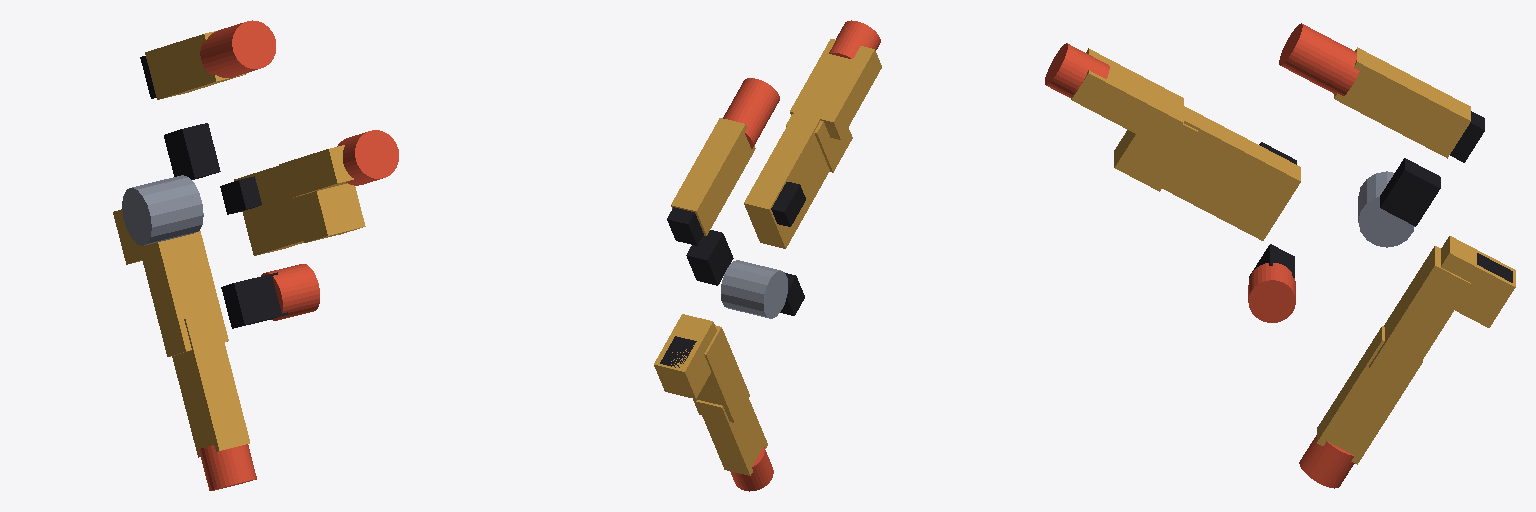
The robot description file, URDF, robot "g0013_c08":
<robot name="g0013_c08">
  <link name="palm">
    <visual name="palm_palm1">
      <origin xyz="0 0 0" rpy="0 0 0" />
      <geometry>
        <mesh filename="palm_palm1.obj" />
      </geometry>
      <material name="palm_palm1_mat">
        <color rgba="0.55 0.57 0.62 1" />
      </material>
    </visual>
    <collision>
      <origin xyz="0 0 0" rpy="0 0 0" />
      <geometry>
        <mesh filename="palm_palm1.obj" />
      </geometry>
    </collision>
    <visual name="palm_mount2">
      <origin xyz="0 0 0" rpy="0 0 0" />
      <geometry>
        <mesh filename="palm_mount2.obj" />
      </geometry>
      <material name="palm_mount2_mat">
        <color rgba="0.55 0.57 0.62 1" />
      </material>
    </visual>
    <collision>
      <origin xyz="0 0 0" rpy="0 0 0" />
      <geometry>
        <mesh filename="palm_mount2.obj" />
      </geometry>
    </collision>
    <visual name="palm_hinge3">
      <origin xyz="0 0.01625 0.0281458256" rpy="-1.57079633 0.523598776 1.57079633" />
      <geometry>
        <box size="0.029 0.034 0.02" />
      </geometry>
      <material name="palm_hinge3_mat">
        <color rgba="0.15 0.15 0.17 1" />
      </material>
    </visual>
    <collision>
      <origin xyz="0 0.01625 0.0281458256" rpy="-1.57079633 0.523598776 1.57079633" />
      <geometry>
        <box size="0.029 0.034 0.02" />
      </geometry>
    </collision>
    <visual name="palm_motor4">
      <origin xyz="-0.007 -0.08 -0.04" rpy="1.06057524e-16 -1.04719755 1.57079633" />
      <geometry>
        <box size="0.029 0.034 0.02" />
      </geometry>
      <material name="palm_motor4_mat">
        <color rgba="0.15 0.15 0.17 1" />
      </material>
    </visual>
    <collision>
      <origin xyz="-0.007 -0.08 -0.04" rpy="1.06057524e-16 -1.04719755 1.57079633" />
      <geometry>
        <box size="0.029 0.034 0.02" />
      </geometry>
    </collision>
    <visual name="palm_motor5">
      <origin xyz="-0.007 -0.08 0.04" rpy="3.14159265 -0.523598776 -1.57079633" />
      <geometry>
        <box size="0.029 0.034 0.02" />
      </geometry>
      <material name="palm_motor5_mat">
        <color rgba="0.15 0.15 0.17 1" />
      </material>
    </visual>
    <collision>
      <origin xyz="-0.007 -0.08 0.04" rpy="3.14159265 -0.523598776 -1.57079633" />
      <geometry>
        <box size="0.029 0.034 0.02" />
      </geometry>
    </collision>
    <visual name="palm_motor6">
      <origin xyz="-0.0045 0.0666996732 -0.0467548095" rpy="1.57079633 -0.523598776 -1.57079633" />
      <geometry>
        <box size="0.029 0.034 0.02" />
      </geometry>
      <material name="palm_motor6_mat">
        <color rgba="0.15 0.15 0.17 1" />
      </material>
    </visual>
    <collision>
      <origin xyz="-0.0045 0.0666996732 -0.0467548095" rpy="1.57079633 -0.523598776 -1.57079633" />
      <geometry>
        <box size="0.029 0.034 0.02" />
      </geometry>
    </collision>
    <inertial>
      <origin xyz="3.06881277e-19 -0.0160101149 -0.0098875178" rpy="-1.57079633 -0.360314706 -1.57079633" />
      <mass value="0.80503861" />
      <inertia ixx="0.000786808095" ixy="0" ixz="0" iyy="0.00226216112" iyz="0" izz="0.0029716855" />
    </inertial>
  </link>
  <link name="palm0">
    <visual name="palm0_palm1">
      <origin xyz="0 0 0" rpy="0 0 0" />
      <geometry>
        <mesh filename="palm0_palm1.obj" />
      </geometry>
      <material name="palm0_palm1_mat">
        <color rgba="0.55 0.57 0.62 1" />
      </material>
    </visual>
    <collision>
      <origin xyz="0 0 0" rpy="0 0 0" />
      <geometry>
        <mesh filename="palm0_palm1.obj" />
      </geometry>
    </collision>
    <visual name="palm0_motor2">
      <origin xyz="0 0.0264951905 0.0416089838" rpy="-1.57079633 -1.04719755 1.57079633" />
      <geometry>
        <box size="0.029 0.034 0.02" />
      </geometry>
      <material name="palm0_motor2_mat">
        <color rgba="0.15 0.15 0.17 1" />
      </material>
    </visual>
    <collision>
      <origin xyz="0 0.0264951905 0.0416089838" rpy="-1.57079633 -1.04719755 1.57079633" />
      <geometry>
        <box size="0.029 0.034 0.02" />
      </geometry>
    </collision>
    <inertial>
      <origin xyz="0 0.0150857275 0.0248726109" rpy="-1.57079633 -0.505474967 -1.57079633" />
      <mass value="0.23405729" />
      <inertia ixx="7.66551965e-05" ixy="0" ixz="0" iyy="0.000225585664" iyz="0" izz="0.00027977136" />
    </inertial>
  </link>
  <link name="f0_link0">
    <visual name="f0_link0_link1">
      <origin xyz="0.019 0 -6.9388939e-18" rpy="-1.57079633 -0 -1.57079633" />
      <geometry>
        <cylinder radius="0.0165" length="0.029" />
      </geometry>
      <material name="f0_link0_link1_mat">
        <color rgba="0.85 0.35 0.25 1" />
      </material>
    </visual>
    <collision>
      <origin xyz="0.019 0 -6.9388939e-18" rpy="-1.57079633 -0 -1.57079633" />
      <geometry>
        <cylinder radius="0.0165" length="0.029" />
      </geometry>
    </collision>
    <inertial>
      <origin xyz="0.019 0 0" rpy="0 0 0" />
      <mass value="0.0763354" />
      <inertia ixx="9.49466441e-06" ixy="0" ixz="0" iyy="2.24143997e-05" iyz="0" izz="2.24143997e-05" />
    </inertial>
  </link>
  <link name="f1_link0">
    <visual name="f1_link0_link1">
      <origin xyz="0.0415 0 -0.0145" rpy="0 7.03853194e-17 0" />
      <geometry>
        <box size="0.116 0.024 0.053" />
      </geometry>
      <material name="f1_link0_link1_mat">
        <color rgba="0.80 0.62 0.30 1" />
      </material>
    </visual>
    <collision>
      <origin xyz="0.0415 0 -0.0145" rpy="0 7.03853194e-17 0" />
      <geometry>
        <box size="0.116 0.024 0.053" />
      </geometry>
    </collision>
    <inertial>
      <origin xyz="0.0415 0 -0.0145" rpy="0 0 0" />
      <mass value="0.258216" />
      <inertia ixx="7.283843e-05" ixy="0" ixz="0" iyy="0.00034999027" iyz="0" izz="0.000301940576" />
    </inertial>
  </link>
  <link name="f1_link1">
    <visual name="f1_link1_link1">
      <origin xyz="-0.00625 0 -0.0165" rpy="0 7.03853194e-17 0" />
      <geometry>
        <box size="0.0365 0.029 0.053" />
      </geometry>
      <material name="f1_link1_link1_mat">
        <color rgba="0.80 0.62 0.30 1" />
      </material>
    </visual>
    <collision>
      <origin xyz="-0.00625 0 -0.0165" rpy="0 7.03853194e-17 0" />
      <geometry>
        <box size="0.0365 0.029 0.053" />
      </geometry>
    </collision>
    <inertial>
      <origin xyz="-0.00625 0 -0.0165" rpy="0 0 0" />
      <mass value="0.098175875" />
      <inertia ixx="2.98618286e-05" ixy="0" ixz="0" iyy="3.38809035e-05" iyz="0" izz="1.778006e-05" />
    </inertial>
  </link>
  <link name="f1_link2">
    <visual name="f1_link2_link1">
      <origin xyz="0.02625 -0.004 -1.73472348e-18" rpy="0 7.03853194e-17 0" />
      <geometry>
        <box size="0.0765 0.041 0.024" />
      </geometry>
      <material name="f1_link2_link1_mat">
        <color rgba="0.80 0.62 0.30 1" />
      </material>
    </visual>
    <collision>
      <origin xyz="0.02625 -0.004 -1.73472348e-18" rpy="0 7.03853194e-17 0" />
      <geometry>
        <box size="0.0765 0.041 0.024" />
      </geometry>
    </collision>
    <inertial>
      <origin xyz="0.02625 -0.004 0" rpy="0 0 0" />
      <mass value="0.131733" />
      <inertia ixx="2.47767818e-05" ixy="0" ixz="0" iyy="7.05677214e-05" iyz="0" izz="8.26981352e-05" />
    </inertial>
  </link>
  <link name="f1_link3">
    <visual name="f1_link3_link1">
      <origin xyz="0.01675 0 -9.54097912e-18" rpy="-1.57079633 -0 -1.57079633" />
      <geometry>
        <cylinder radius="0.0165" length="0.0335" />
      </geometry>
      <material name="f1_link3_link1_mat">
        <color rgba="0.85 0.35 0.25 1" />
      </material>
    </visual>
    <collision>
      <origin xyz="0.01675 0 -9.54097912e-18" rpy="-1.57079633 -0 -1.57079633" />
      <geometry>
        <cylinder radius="0.0165" length="0.0335" />
      </geometry>
    </collision>
    <inertial>
      <origin xyz="0.01675 0 0" rpy="0 0 0" />
      <mass value="0.0830708765" />
      <inertia ixx="1.04115311e-05" ixy="0" ixz="0" iyy="2.77522648e-05" iyz="0" izz="2.77522648e-05" />
    </inertial>
  </link>
  <link name="f2_link0">
    <visual name="f2_link0_link1">
      <origin xyz="-0.00625 0 -0.0165" rpy="0 4.06369831e-17 0" />
      <geometry>
        <box size="0.0365 0.029 0.053" />
      </geometry>
      <material name="f2_link0_link1_mat">
        <color rgba="0.80 0.62 0.30 1" />
      </material>
    </visual>
    <collision>
      <origin xyz="-0.00625 0 -0.0165" rpy="0 4.06369831e-17 0" />
      <geometry>
        <box size="0.0365 0.029 0.053" />
      </geometry>
    </collision>
    <inertial>
      <origin xyz="-0.00625 0 -0.0165" rpy="0 0 0" />
      <mass value="0.098175875" />
      <inertia ixx="2.98618286e-05" ixy="0" ixz="0" iyy="3.38809035e-05" iyz="0" izz="1.778006e-05" />
    </inertial>
  </link>
  <link name="f2_link1">
    <visual name="f2_link1_link1">
      <origin xyz="0.03375 0 6.9388939e-18" rpy="0 4.06369831e-17 0" />
      <geometry>
        <box size="0.0915 0.033 0.029" />
      </geometry>
      <material name="f2_link1_link1_mat">
        <color rgba="0.80 0.62 0.30 1" />
      </material>
    </visual>
    <collision>
      <origin xyz="0.03375 0 6.9388939e-18" rpy="0 4.06369831e-17 0" />
      <geometry>
        <box size="0.0915 0.033 0.029" />
      </geometry>
    </collision>
    <inertial>
      <origin xyz="0.03375 0 0" rpy="0 0 0" />
      <mass value="0.153239625" />
      <inertia ixx="2.46460397e-05" ixy="0" ixz="0" iyy="0.000117652915" iyz="0" izz="0.000120819867" />
    </inertial>
  </link>
  <link name="f2_link2">
    <visual name="f2_link2_link1">
      <origin xyz="0.03375 0 -1.38777878e-17" rpy="0 4.06369831e-17 0" />
      <geometry>
        <box size="0.0915 0.024 0.033" />
      </geometry>
      <material name="f2_link2_link1_mat">
        <color rgba="0.80 0.62 0.30 1" />
      </material>
    </visual>
    <collision>
      <origin xyz="0.03375 0 -1.38777878e-17" rpy="0 4.06369831e-17 0" />
      <geometry>
        <box size="0.0915 0.024 0.033" />
      </geometry>
    </collision>
    <inertial>
      <origin xyz="0.03375 0 0" rpy="0 0 0" />
      <mass value="0.126819" />
      <inertia ixx="1.75961363e-05" ixy="0" ixz="0" iyy="9.99888553e-05" iyz="0" izz="9.45673431e-05" />
    </inertial>
  </link>
  <link name="f2_link3">
    <visual name="f2_link3_link1">
      <origin xyz="0.019 0 6.9388939e-18" rpy="-1.57079633 -0 -1.57079633" />
      <geometry>
        <cylinder radius="0.0165" length="0.029" />
      </geometry>
      <material name="f2_link3_link1_mat">
        <color rgba="0.85 0.35 0.25 1" />
      </material>
    </visual>
    <collision>
      <origin xyz="0.019 0 6.9388939e-18" rpy="-1.57079633 -0 -1.57079633" />
      <geometry>
        <cylinder radius="0.0165" length="0.029" />
      </geometry>
    </collision>
    <inertial>
      <origin xyz="0.019 0 0" rpy="0 0 0" />
      <mass value="0.0763354" />
      <inertia ixx="9.49466441e-06" ixy="0" ixz="0" iyy="2.24143997e-05" iyz="0" izz="2.24143997e-05" />
    </inertial>
  </link>
  <link name="f3_link0">
    <visual name="f3_link0_link1">
      <origin xyz="0.03375 0 0" rpy="0 7.03853194e-17 0" />
      <geometry>
        <box size="0.0915 0.024 0.033" />
      </geometry>
      <material name="f3_link0_link1_mat">
        <color rgba="0.80 0.62 0.30 1" />
      </material>
    </visual>
    <collision>
      <origin xyz="0.03375 0 0" rpy="0 7.03853194e-17 0" />
      <geometry>
        <box size="0.0915 0.024 0.033" />
      </geometry>
    </collision>
    <inertial>
      <origin xyz="0.03375 0 0" rpy="0 0 0" />
      <mass value="0.126819" />
      <inertia ixx="1.75961363e-05" ixy="0" ixz="0" iyy="9.99888553e-05" iyz="0" izz="9.45673431e-05" />
    </inertial>
  </link>
  <link name="f3_link1">
    <visual name="f3_link1_link1">
      <origin xyz="0.029 0 -6.9388939e-18" rpy="-1.57079633 -0 -1.57079633" />
      <geometry>
        <cylinder radius="0.0165" length="0.049" />
      </geometry>
      <material name="f3_link1_link1_mat">
        <color rgba="0.85 0.35 0.25 1" />
      </material>
    </visual>
    <collision>
      <origin xyz="0.029 0 -6.9388939e-18" rpy="-1.57079633 -0 -1.57079633" />
      <geometry>
        <cylinder radius="0.0165" length="0.049" />
      </geometry>
    </collision>
    <inertial>
      <origin xyz="0.029 0 0" rpy="0 0 0" />
      <mass value="0.106270851" />
      <inertia ixx="1.35696277e-05" ixy="0" ixz="0" iyy="5.30015704e-05" iyz="0" izz="5.30015704e-05" />
    </inertial>
  </link>
  <joint name="palm0_joint" type="revolute">
    <parent link="palm" />
    <child link="palm0" />
    <origin xyz="0 0.02 0.0346410162" rpy="0 0 0" />
    <axis xyz="0 0.866025404 -0.5" />
    <limit effort="0.5" lower="-0.523598776" upper="0.523598776" velocity="5" />
    <dynamics damping="0.0775033" friction="0" />
  </joint>
  <joint name="f0_j0" type="revolute">
    <parent link="palm" />
    <child link="f0_link0" />
    <origin xyz="0.0005 -0.08 -0.04" rpy="1.04719755 5.30287619e-17 -3.061617e-17" />
    <axis xyz="0 1 6.123234e-17" />
    <limit effort="0.5" lower="-0.523598776" upper="0.523598776" velocity="5" />
    <dynamics damping="0.0775033" friction="0" />
  </joint>
  <joint name="f1_j0" type="revolute">
    <parent link="palm" />
    <child link="f1_link0" />
    <origin xyz="0.0005 -0.08 0.04" rpy="-0 -0.523598776 -1.57079633" />
    <axis xyz="1 0 6.123234e-17" />
    <limit effort="0.5" lower="-1.57079633" upper="1.57079633" velocity="5" />
    <dynamics damping="0.0775033" friction="0" />
  </joint>
  <joint name="f1_j1" type="revolute">
    <parent link="f1_link0" />
    <child link="f1_link1" />
    <origin xyz="0.09 0 0" rpy="0 0 0" />
    <axis xyz="0 0 1" />
    <limit effort="0.5" lower="-0.523598776" upper="1.57079633" velocity="5" />
    <dynamics damping="0.0775033" friction="0" />
  </joint>
  <joint name="f1_j2" type="revolute">
    <parent link="f1_link1" />
    <child link="f1_link2" />
    <origin xyz="0 0 0" rpy="0 0 0" />
    <axis xyz="-0 -1 -6.123234e-17" />
    <limit effort="0.5" lower="-0.523598776" upper="0.523598776" velocity="5" />
    <dynamics damping="0.0775033" friction="0" />
  </joint>
  <joint name="f1_j3" type="revolute">
    <parent link="f1_link2" />
    <child link="f1_link3" />
    <origin xyz="0.05 0 0" rpy="0 0 0" />
    <axis xyz="1 0 6.123234e-17" />
    <limit effort="0.5" lower="-1.57079633" upper="1.57079633" velocity="5" />
    <dynamics damping="0.0775033" friction="0" />
  </joint>
  <joint name="f2_j0" type="revolute">
    <parent link="palm" />
    <child link="f2_link0" />
    <origin xyz="-0.0045 0.04 -0.04" rpy="0 1.04719755 -1.57079633" />
    <axis xyz="0 0 1" />
    <limit effort="0.5" lower="-0.523598776" upper="1.57079633" velocity="5" />
    <dynamics damping="0.0775033" friction="0" />
  </joint>
  <joint name="f2_j1" type="revolute">
    <parent link="f2_link0" />
    <child link="f2_link1" />
    <origin xyz="0 0 0" rpy="0 0 0" />
    <axis xyz="0 1 6.123234e-17" />
    <limit effort="0.5" lower="-0.523598776" upper="0.523598776" velocity="5" />
    <dynamics damping="0.0775033" friction="0" />
  </joint>
  <joint name="f2_j2" type="revolute">
    <parent link="f2_link1" />
    <child link="f2_link2" />
    <origin xyz="0.07 0 0" rpy="0 0 0" />
    <axis xyz="0 0 1" />
    <limit effort="0.5" lower="-0.523598776" upper="1.57079633" velocity="5" />
    <dynamics damping="0.0775033" friction="0" />
  </joint>
  <joint name="f2_j3" type="revolute">
    <parent link="f2_link2" />
    <child link="f2_link3" />
    <origin xyz="0.07 0 0" rpy="0 0 0" />
    <axis xyz="0 0 1" />
    <limit effort="0.5" lower="-0.523598776" upper="1.57079633" velocity="5" />
    <dynamics damping="0.0775033" friction="0" />
  </joint>
  <joint name="f3_j0" type="revolute">
    <parent link="palm0" />
    <child link="f3_link0" />
    <origin xyz="0 0.02 0.0453589838" rpy="-0 -0.523598776 -1.57079633" />
    <axis xyz="0 0 1" />
    <limit effort="0.5" lower="-0.523598776" upper="1.57079633" velocity="5" />
    <dynamics damping="0.0775033" friction="0" />
  </joint>
  <joint name="f3_j1" type="revolute">
    <parent link="f3_link0" />
    <child link="f3_link1" />
    <origin xyz="0.07 0 0" rpy="0 0 0" />
    <axis xyz="0 0 1" />
    <limit effort="0.5" lower="-0.523598776" upper="1.57079633" velocity="5" />
    <dynamics damping="0.0775033" friction="0" />
  </joint>
</robot>

--- Render facts (derived) ---
Views: 3 orthographic renders of the robot side by side, from view 1: azimuth 30°, elevation 25°; view 2: azimuth 150°, elevation 25°; view 3: azimuth 270°, elevation 25°.
Robot: g0013_c08 — 13 links, 12 joints (12 revolute); root link palm; default pose: every joint at zero.
Visible links, largest first — view 1: palm, f2_link2, f2_link1, f1_link0, f3_link1, f3_link0, f1_link1, f1_link3, f1_link2, f0_link0, f2_link3, f2_link0; view 2: palm, f1_link0, f1_link2, f3_link0, f2_link2, f2_link0, f2_link1, f3_link1, f1_link3, palm0, f2_link3, f1_link1; view 3: f1_link0, f3_link0, palm, f2_link1, f1_link2, f2_link2, f3_link1, f2_link0, f1_link1, f0_link0, f1_link3, f2_link3 (+1 smaller).
Boxes of the visible links, bbox=[...] form: palm: bbox=[122, 123, 288, 328]; f2_link2: bbox=[172, 311, 249, 457]; f2_link1: bbox=[139, 231, 228, 356]; f1_link0: bbox=[234, 166, 303, 255]; f3_link1: bbox=[200, 20, 275, 77]; f3_link0: bbox=[145, 31, 246, 99]; f1_link1: bbox=[293, 183, 365, 242]; f1_link3: bbox=[337, 130, 398, 185]; f1_link2: bbox=[279, 145, 353, 198]; f0_link0: bbox=[261, 264, 319, 320]; f2_link3: bbox=[199, 444, 256, 490]; f2_link0: bbox=[113, 209, 141, 264]; palm: bbox=[660, 182, 805, 367]; f1_link0: bbox=[744, 95, 830, 248]; f1_link2: bbox=[790, 39, 881, 139]; f3_link0: bbox=[671, 118, 755, 235]; f2_link2: bbox=[696, 398, 767, 475]; f2_link0: bbox=[654, 314, 716, 398]; f2_link1: bbox=[693, 325, 749, 422]; f3_link1: bbox=[723, 78, 779, 148]; f1_link3: bbox=[829, 20, 880, 58]; palm0: bbox=[667, 207, 703, 245]; f2_link3: bbox=[730, 446, 773, 491]; f1_link1: bbox=[786, 114, 852, 172]; f1_link0: bbox=[1157, 93, 1300, 240]; f3_link0: bbox=[1334, 47, 1470, 158]; palm: bbox=[1249, 142, 1512, 282]; f2_link1: bbox=[1369, 246, 1470, 386]; f1_link2: bbox=[1071, 48, 1183, 149]; f2_link2: bbox=[1317, 326, 1422, 464]; f3_link1: bbox=[1279, 23, 1359, 95]; f2_link0: bbox=[1441, 236, 1515, 327]; f1_link1: bbox=[1114, 123, 1197, 191]; f0_link0: bbox=[1248, 263, 1295, 322]; f1_link3: bbox=[1045, 43, 1109, 97]; f2_link3: bbox=[1299, 435, 1354, 488].
Bounding box of the posed robot: 0.086 × 0.328 × 0.3545 m (x, y, z).
1 mesh visuals loaded from 3 distinct referenced files (1 OBJ); not drawn: 2 (reference not matched to a file when rendering).
